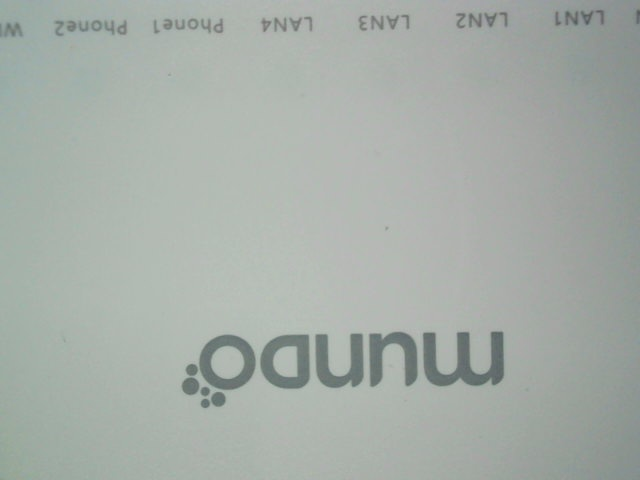BI_MUNDO: (160, 319, 523, 419)
